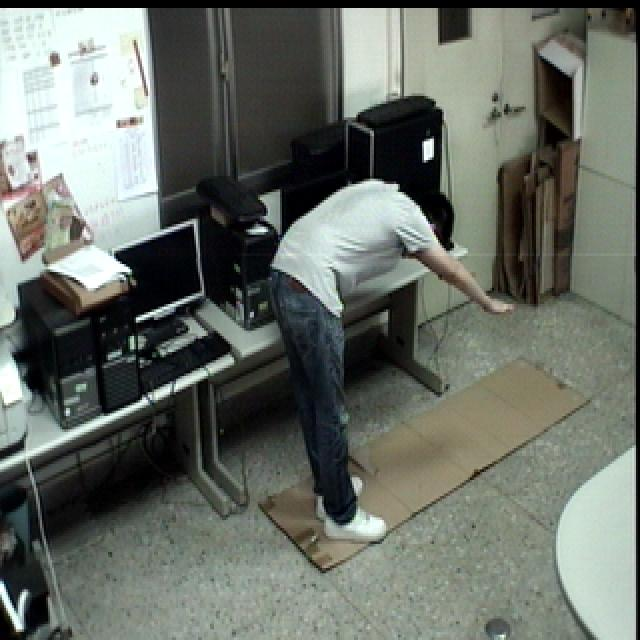bend: (262, 169, 518, 546)
